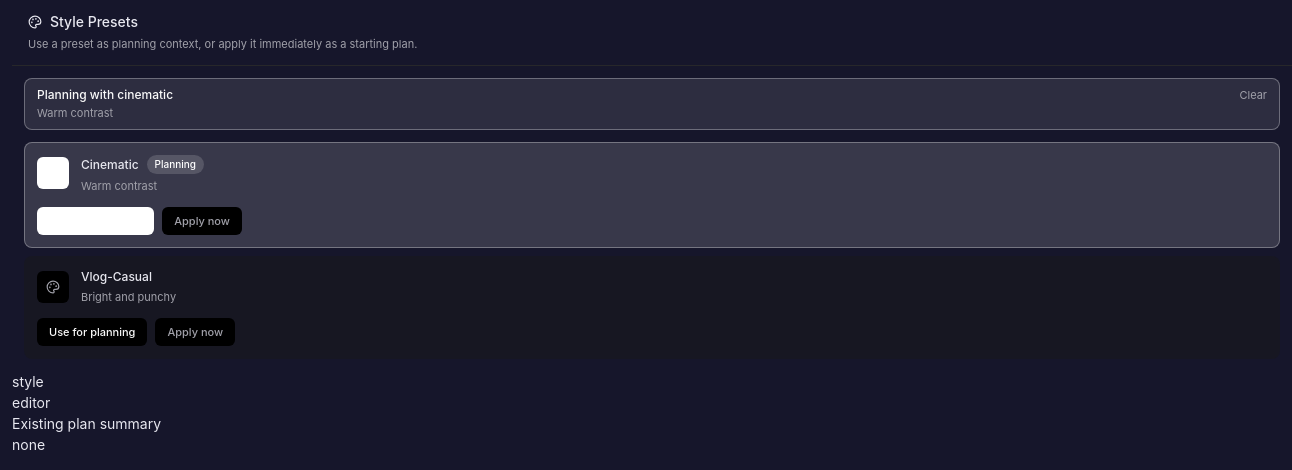
Test case: StylePanel › preserves the existing plan, view, sidebar, and planning preset when apply-now fails
Step 1. Click the button "Apply now" below "Bright and punchy" → (195,332), box [155,318,235,346]
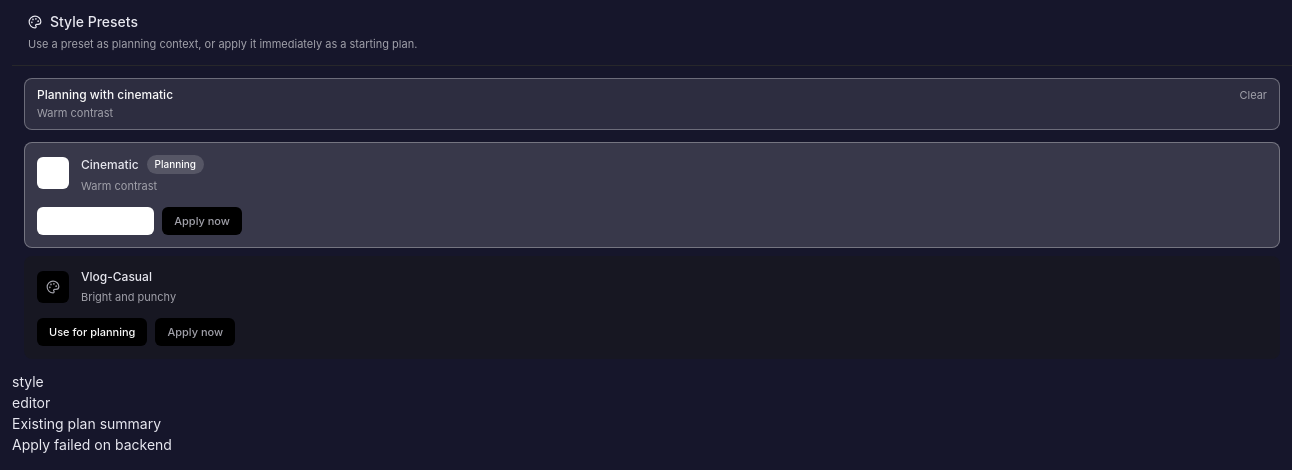
Expected: the text with test id "sidebar-tab" reads "style", [12,373,44,390]
Now the text with test id "error" reads "Apply failed on backend", box [12,436,172,453]
